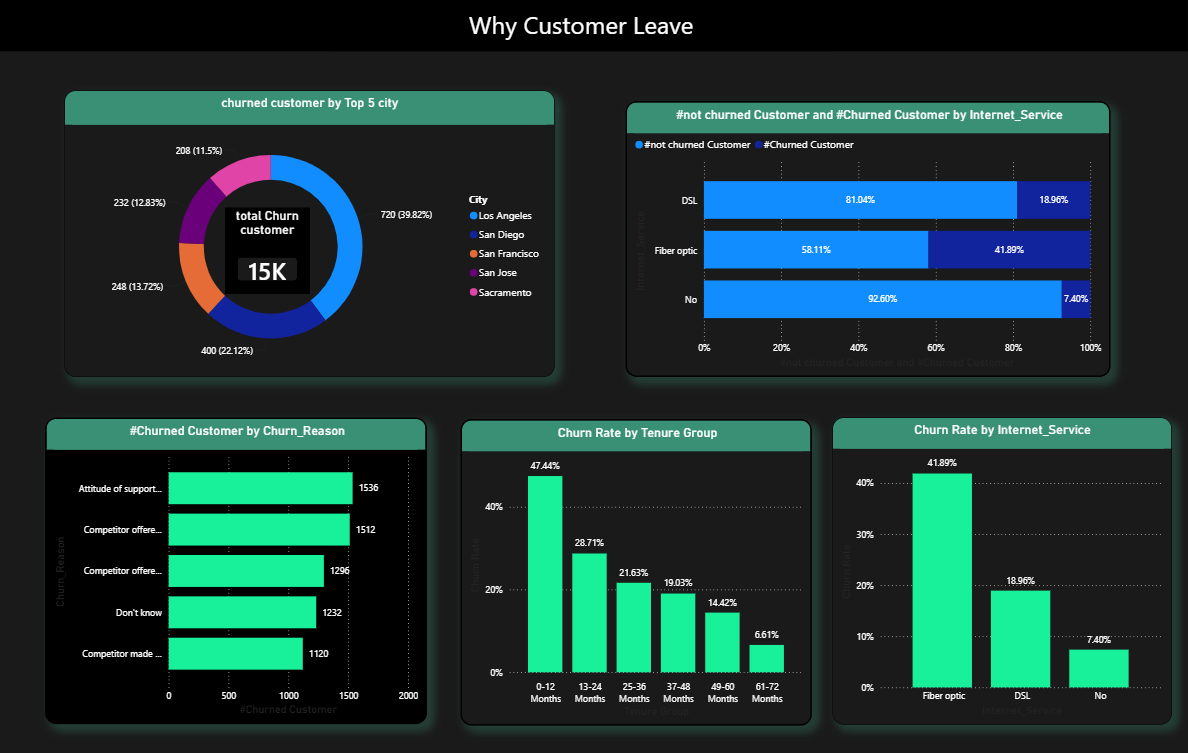

This screenshot's page, from the dashboard's own definition file:
{"tool":"powerbi","page":{"name":"Page 2","canvas":[1580,1000],"ordinal":1},"visuals":[{"type":"donutChart","title":"churned customer by Top 5 city ","fields":{"Category":["Telco_customer_churn_cleaned.City"],"Y":["Telco_customer_churn_cleaned.#Churned Customer"]},"box":[89.9,120.5,649.7,380],"z":0},{"type":"cardVisual","title":"total Churn customer","fields":{"Data":["Telco_customer_churn_cleaned.#Churned Customer"]},"box":[302.4,275.8,112.4,114.4],"z":1000},{"type":"hundredPercentStackedBarChart","fields":{"Category":["Telco_customer_churn_cleaned.Internet_Service"],"Y":["Telco_customer_churn_cleaned.#not churned Customer","Telco_customer_churn_cleaned.#Churned Customer"]},"box":[833.6,134.8,643.6,365.7],"z":2000},{"type":"clusteredBarChart","fields":{"Category":["Telco_customer_churn_cleaned.Churn_Reason"],"Y":["Telco_customer_churn_cleaned.#Churned Customer"]},"box":[63.3,555.7,506.7,406.6],"z":3000},{"type":"shape","box":[0,0,1579.6,69.6],"z":4000},{"type":"textbox","box":[441.7,6,666.5,63.7],"z":5000},{"type":"clusteredColumnChart","fields":{"Category":["Telco_customer_churn_cleaned.Tenure Group"],"Y":["Telco_customer_churn_cleaned.Churn Rate"]},"box":[615,557.8,465.8,406.6],"z":6000},{"type":"clusteredColumnChart","fields":{"Category":["Telco_customer_churn_cleaned.Internet_Service"],"Y":["Telco_customer_churn_cleaned.Churn Rate"]},"box":[1107.4,555.7,450,407],"z":7000}]}

Visuals, with their boxes in screenshot pixels (x1, y1, x2, y2), scaled from the page's 1580x1000 canvas onto the 1188x753 screenshot:
"churned customer by Top 5 city " donutChart: <region>68, 91, 556, 377</region>
"total Churn customer" cardVisual: <region>227, 208, 312, 294</region>
hundredPercentStackedBarChart - Telco_customer_churn_cleaned.Internet_Service x Telco_customer_churn_cleaned.#not churned Customer: <region>627, 102, 1111, 377</region>
clusteredBarChart - Telco_customer_churn_cleaned.Churn_Reason x Telco_customer_churn_cleaned.#Churned Customer: <region>48, 418, 429, 725</region>
shape: <region>0, 0, 1187, 52</region>
textbox: <region>332, 5, 833, 52</region>
clusteredColumnChart - Telco_customer_churn_cleaned.Tenure Group x Telco_customer_churn_cleaned.Churn Rate: <region>462, 420, 813, 726</region>
clusteredColumnChart - Telco_customer_churn_cleaned.Internet_Service x Telco_customer_churn_cleaned.Churn Rate: <region>833, 418, 1171, 725</region>
